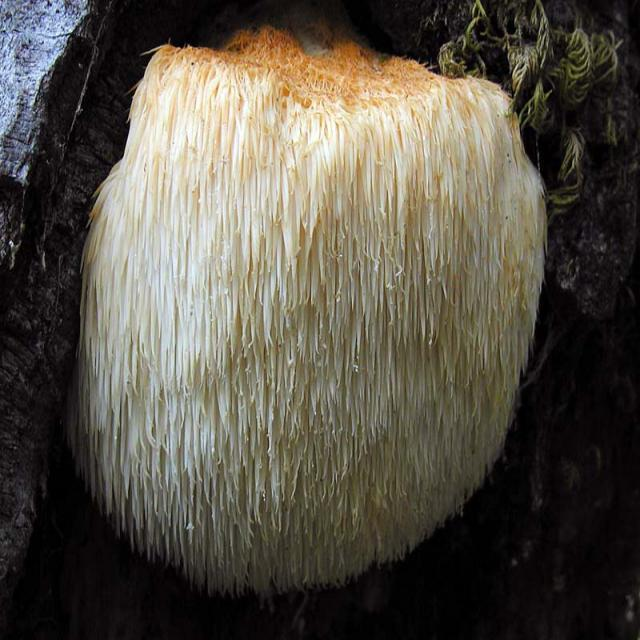Hericium erinaceus: (74, 31, 546, 596)
